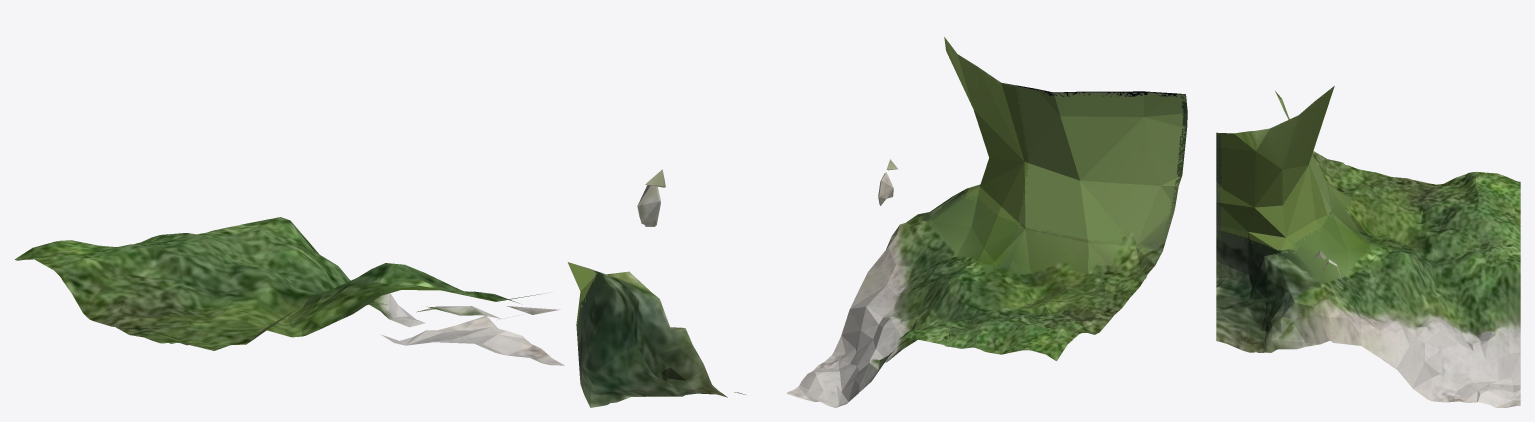
3 views of the same model, side by side, from view 1: azimuth 30°, elevation 25°; view 2: azimuth 150°, elevation 25°; view 3: azimuth 270°, elevation 25° (orthographic). The views are drawn at different scales.
Bounding box in the file's own units: 5.9 × 5.69 × 5.9.
3 materials, 3 textured.
